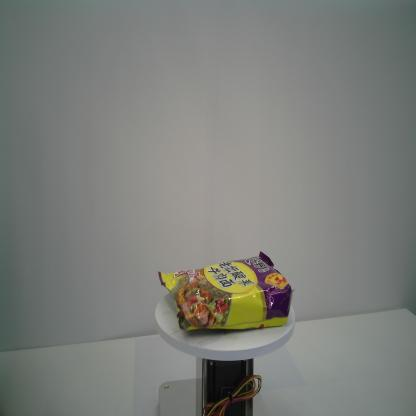Instant Noodles: (158, 250, 296, 332)
